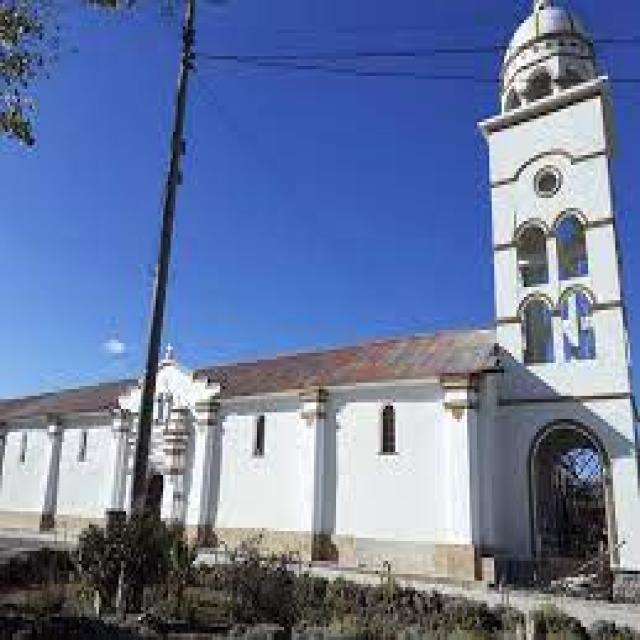CAMPANARIO: (486, 98, 628, 401)
CUPULA: (472, 0, 626, 94)
PORTADA CENTRAL: (132, 465, 172, 560)
TORRES: (477, 0, 640, 594)
colonial-architecture-: (0, 0, 638, 612)
